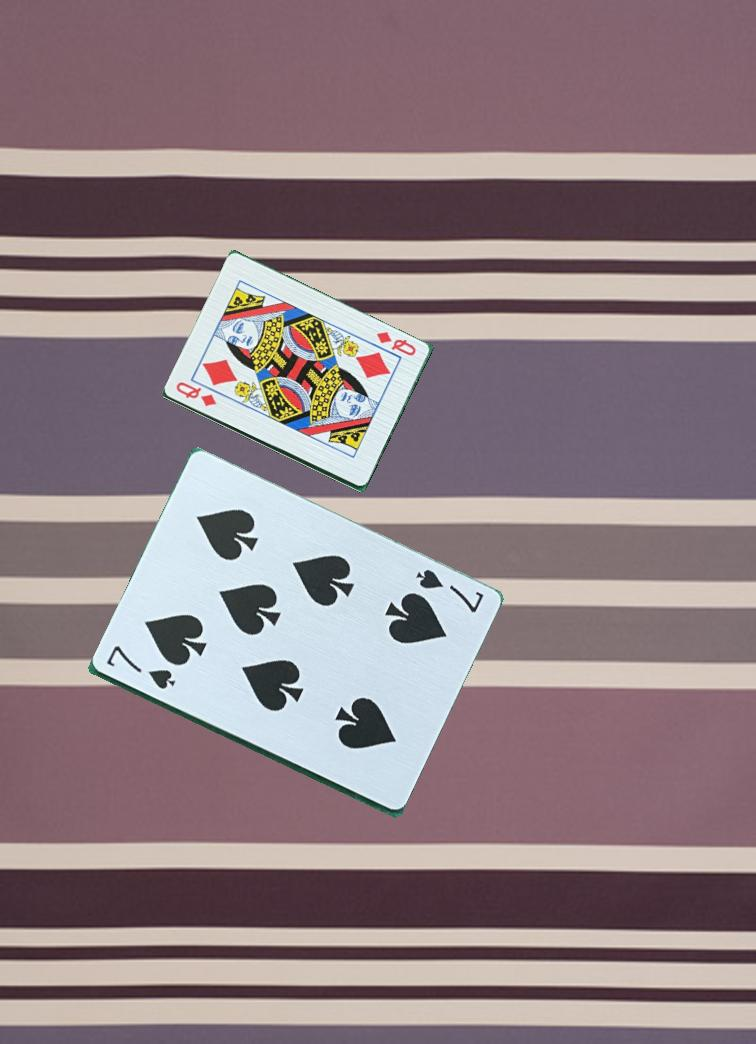7s: (413, 565, 488, 616), (103, 643, 179, 692)
qd: (172, 377, 219, 409), (372, 328, 419, 359)
